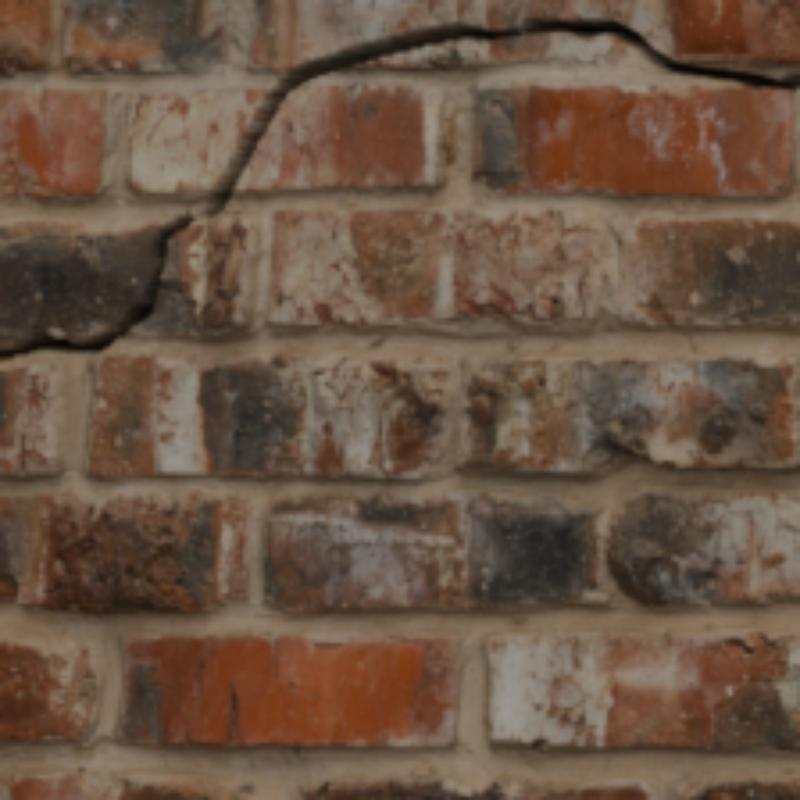pothole: (2, 19, 799, 362)
